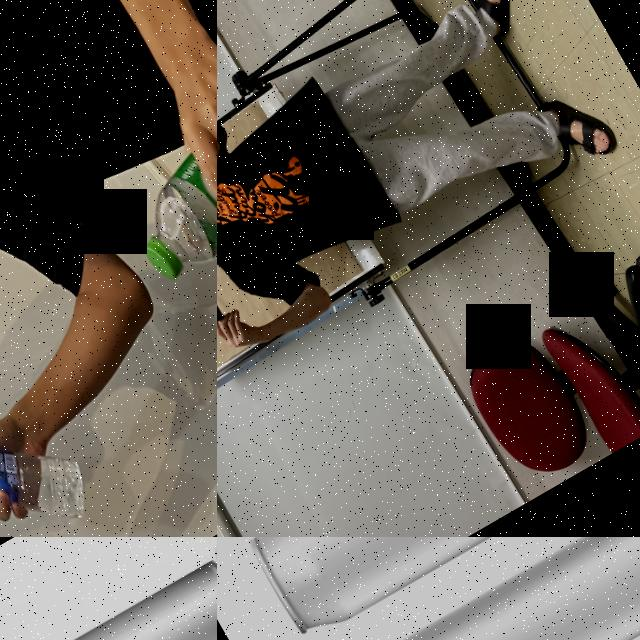bottle: (86, 50, 217, 289), (0, 369, 105, 537)
can: (235, 537, 640, 640), (373, 537, 640, 640), (0, 546, 217, 640)
